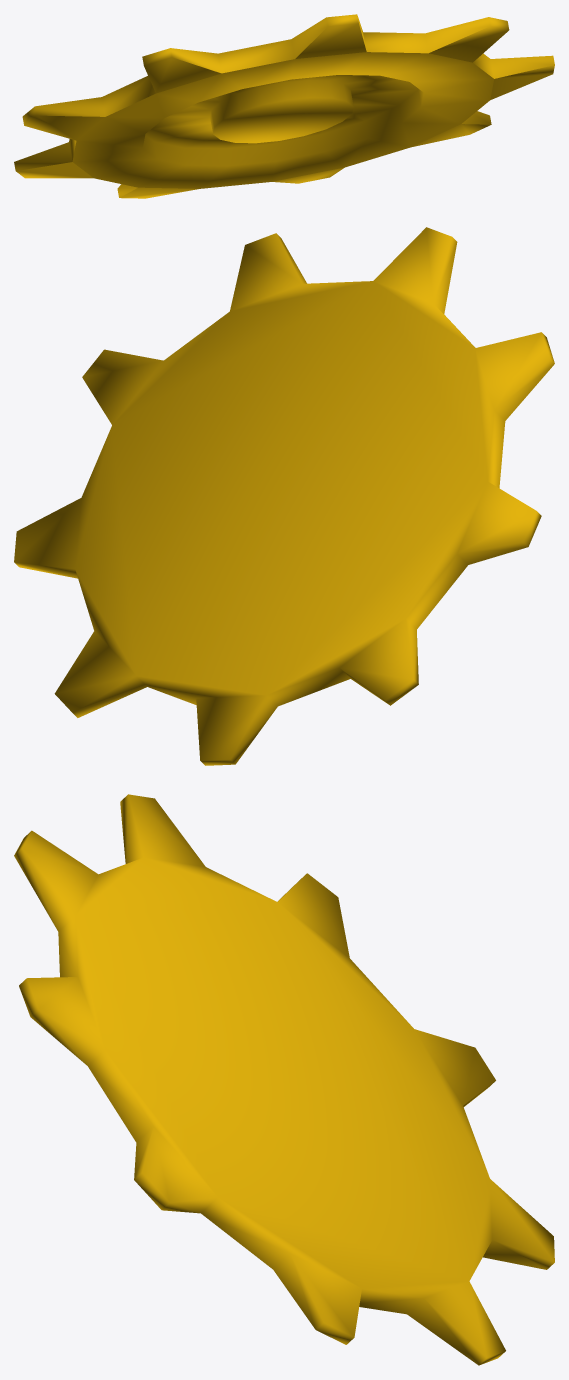
The model's file is speed_powerup.fbx.
3 renders of one model, top to bottom at view 1: azimuth 30°, elevation 25°; view 2: azimuth 150°, elevation 25°; view 3: azimuth 270°, elevation 25°, orthographic. The views are drawn at different scales.
Visible parts, largest first — view 1: Cylinder01_01_-_Defau; view 2: Cylinder01_01_-_Defau; view 3: Cylinder01_01_-_Defau.
Part boxes in pixels (x1,y1,x2,y2): Cylinder01_01_-_Defau: [14, 14, 554, 198]; Cylinder01_01_-_Defau: [14, 227, 554, 765]; Cylinder01_01_-_Defau: [14, 794, 554, 1365].
Bounding box in the file's own units: 36.43 × 25.29 × 28.74.
1 material, 1 textured.
